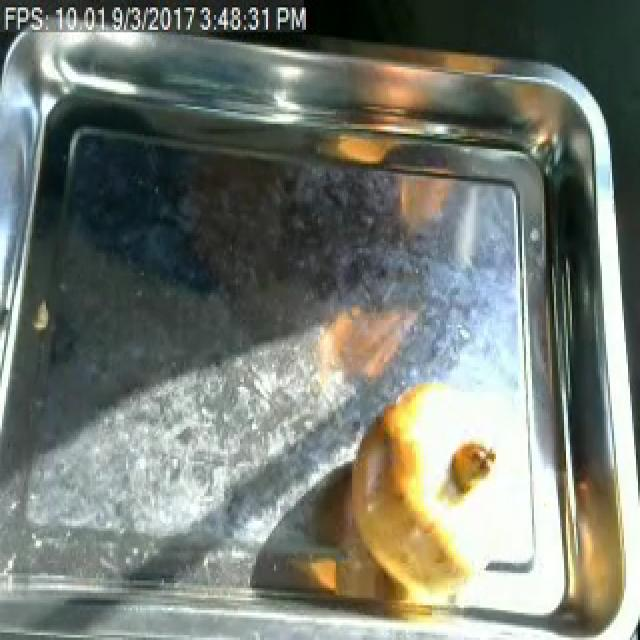fruit: (338, 364, 532, 602)
